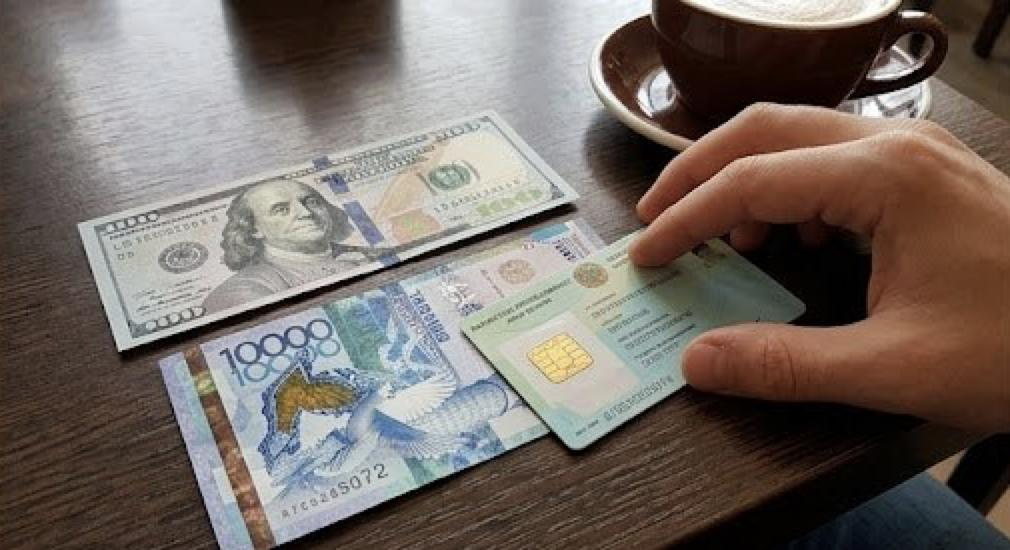cash_stack: (153, 216, 615, 550), (78, 109, 579, 363)
document: (461, 217, 813, 448)
